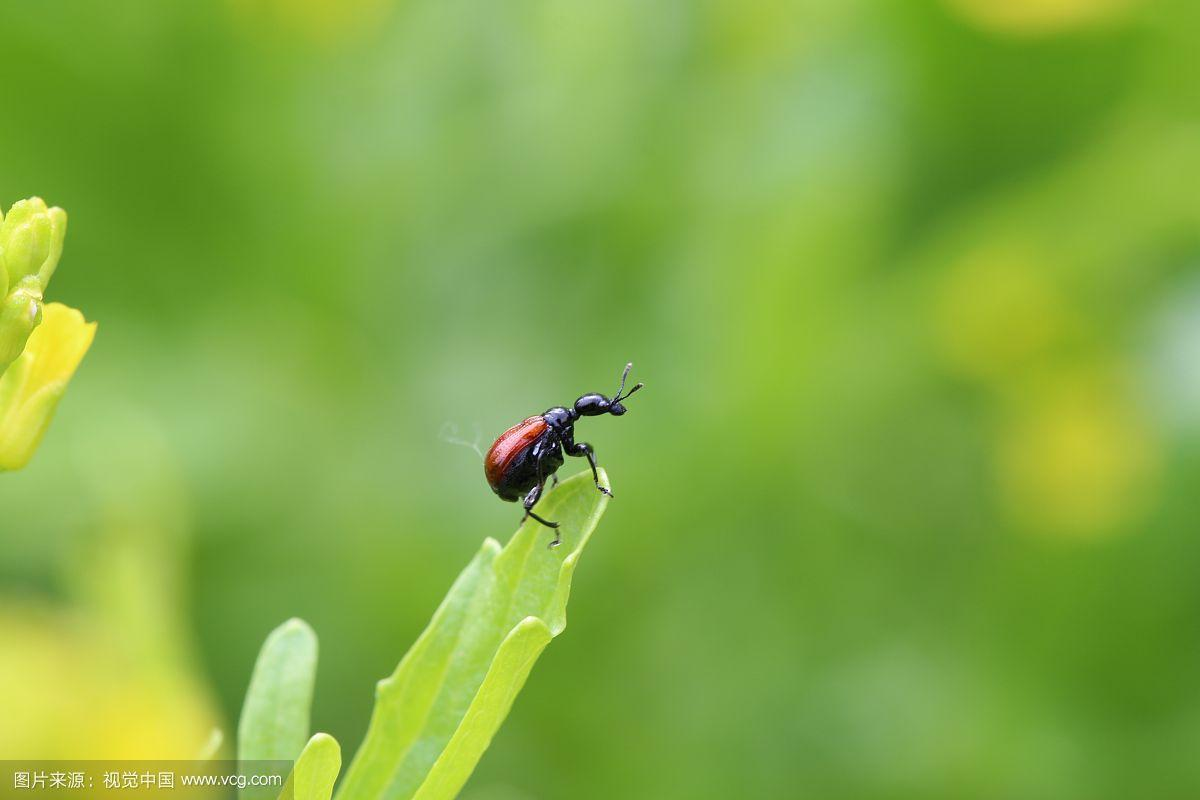Curculionidae: (481, 360, 646, 552)
